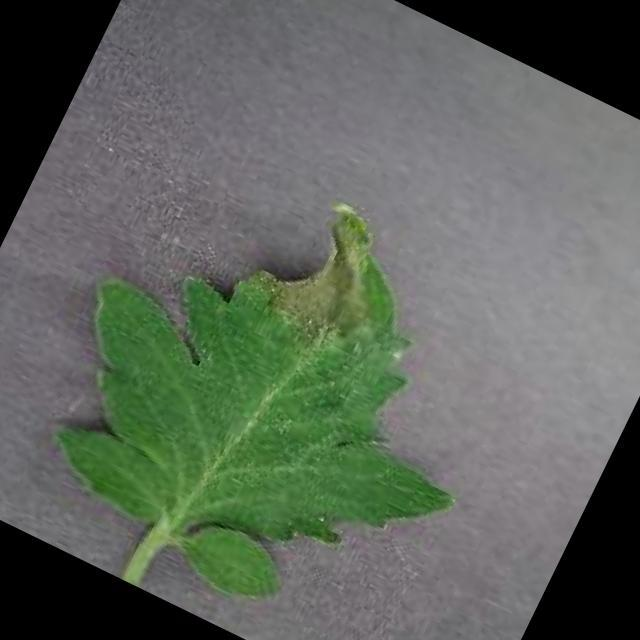Tomato late blight leaf: (2, 118, 548, 640)
